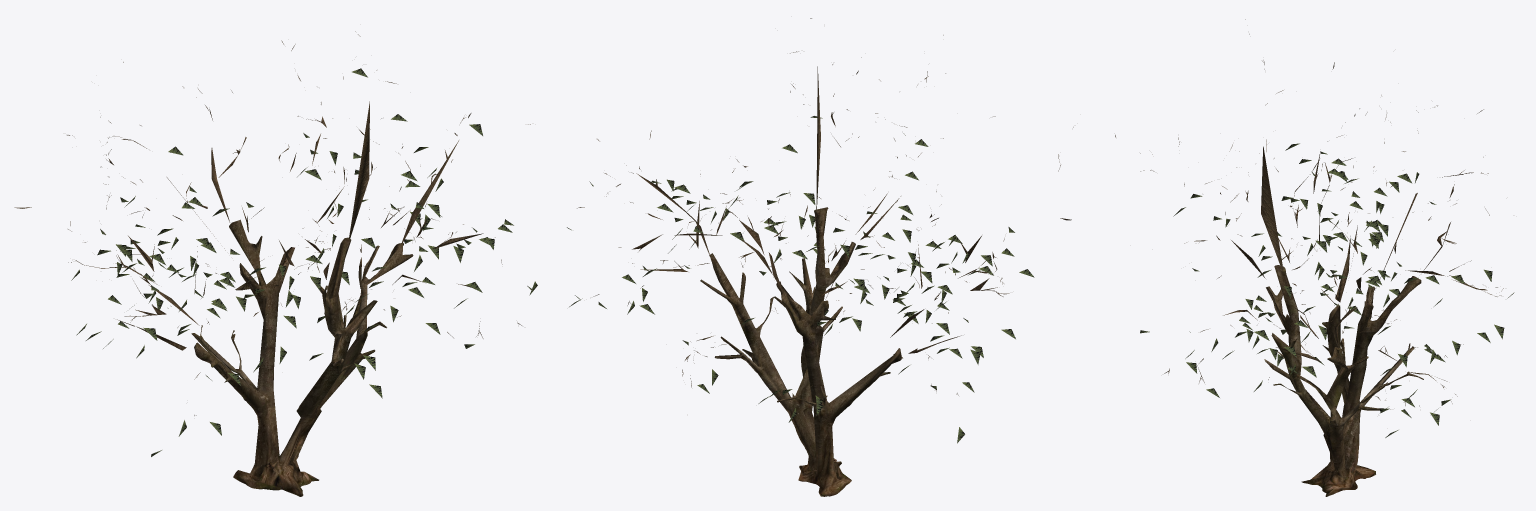
The model's file is jacaranda-far.glb.
3 renders of one model, left to right at view 1: azimuth 30°, elevation 25°; view 2: azimuth 150°, elevation 25°; view 3: azimuth 270°, elevation 25°, orthographic. The views are drawn at different scales.
Visible parts, largest first — view 1: jacaranda_tree_LOD0; view 2: jacaranda_tree_LOD0; view 3: jacaranda_tree_LOD0.
Part boxes in pixels (x1,y1,x2,y2): jacaranda_tree_LOD0: (14, 31, 537, 496); jacaranda_tree_LOD0: (567, 18, 1073, 496); jacaranda_tree_LOD0: (1115, 19, 1514, 496).
Bounding box in the file's own units: 21.58 × 18.75 × 16.49.
3 materials, 3 textured.
